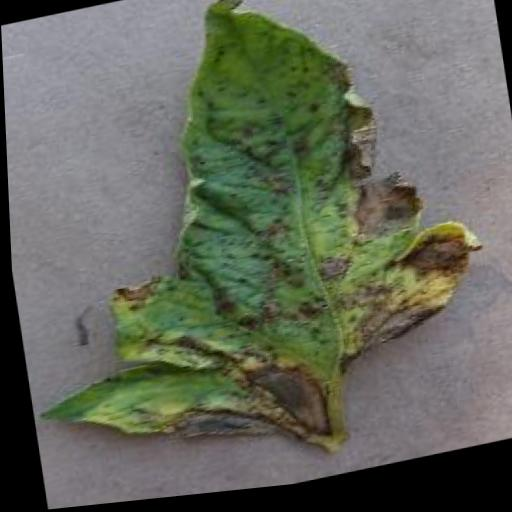Early Blight: (0, 0, 506, 512)
